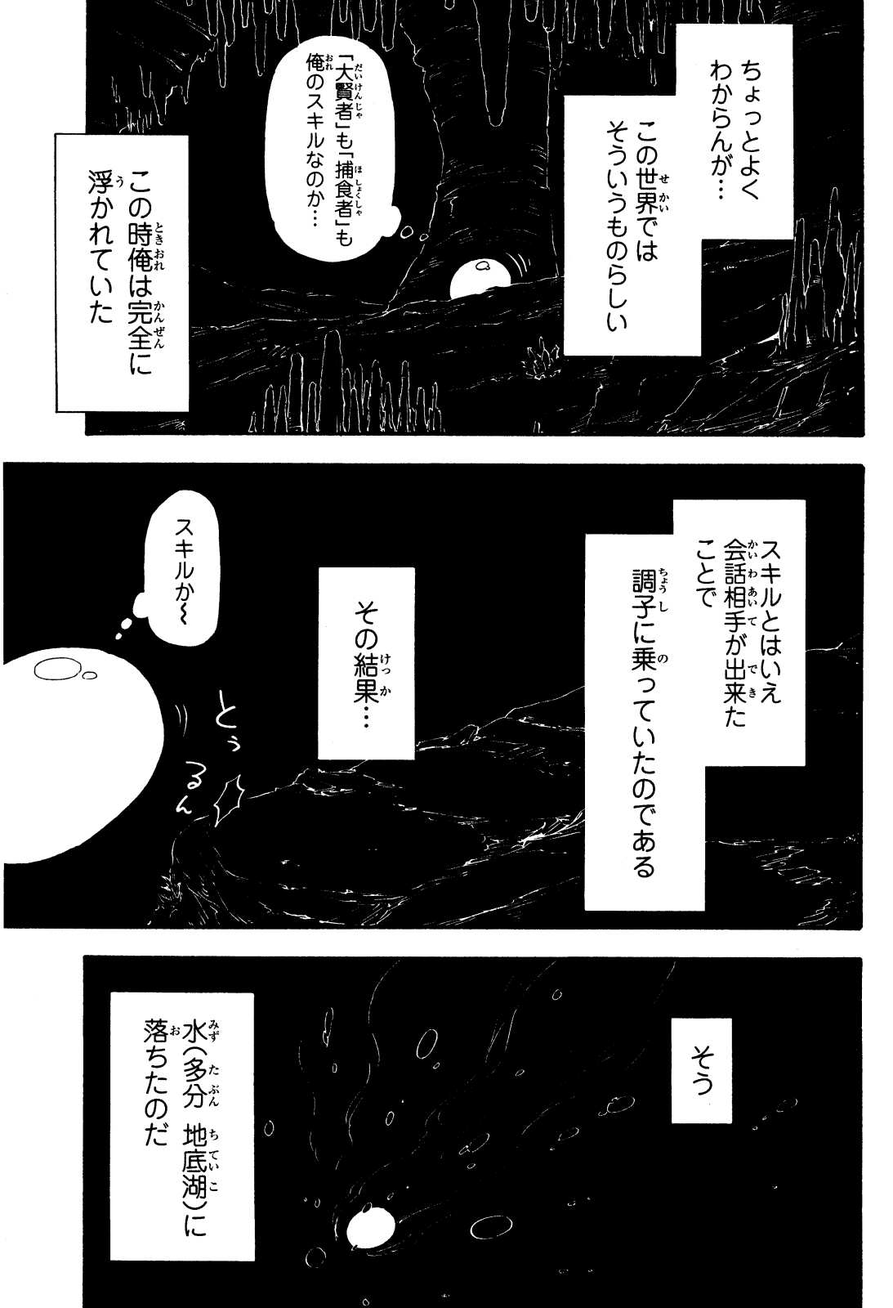bubbles: (574, 497, 811, 916), (554, 20, 803, 359), (101, 984, 264, 1274), (51, 128, 196, 419), (263, 32, 417, 268), (316, 564, 422, 764), (109, 488, 238, 652), (667, 1013, 739, 1128)
